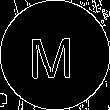M_N: (32, 29, 78, 81)
